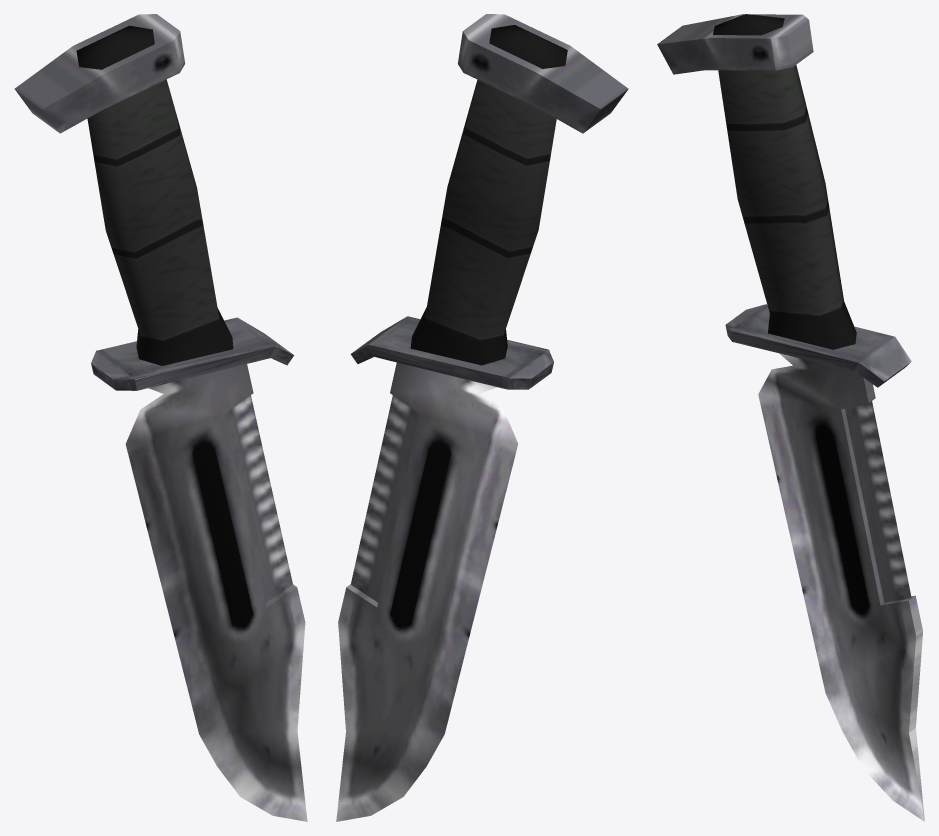
The model's file is combat-knife-opposing-force.glb.
The picture shows the model from 3 angles, left to right: view 1: azimuth 30°, elevation 25°; view 2: azimuth 150°, elevation 25°; view 3: azimuth 330°, elevation 25°; orthographic projection. The views are drawn at different scales.
Bounding box in the file's own units: 5.7 × 16.31 × 1.38.
1 material, 1 textured.
